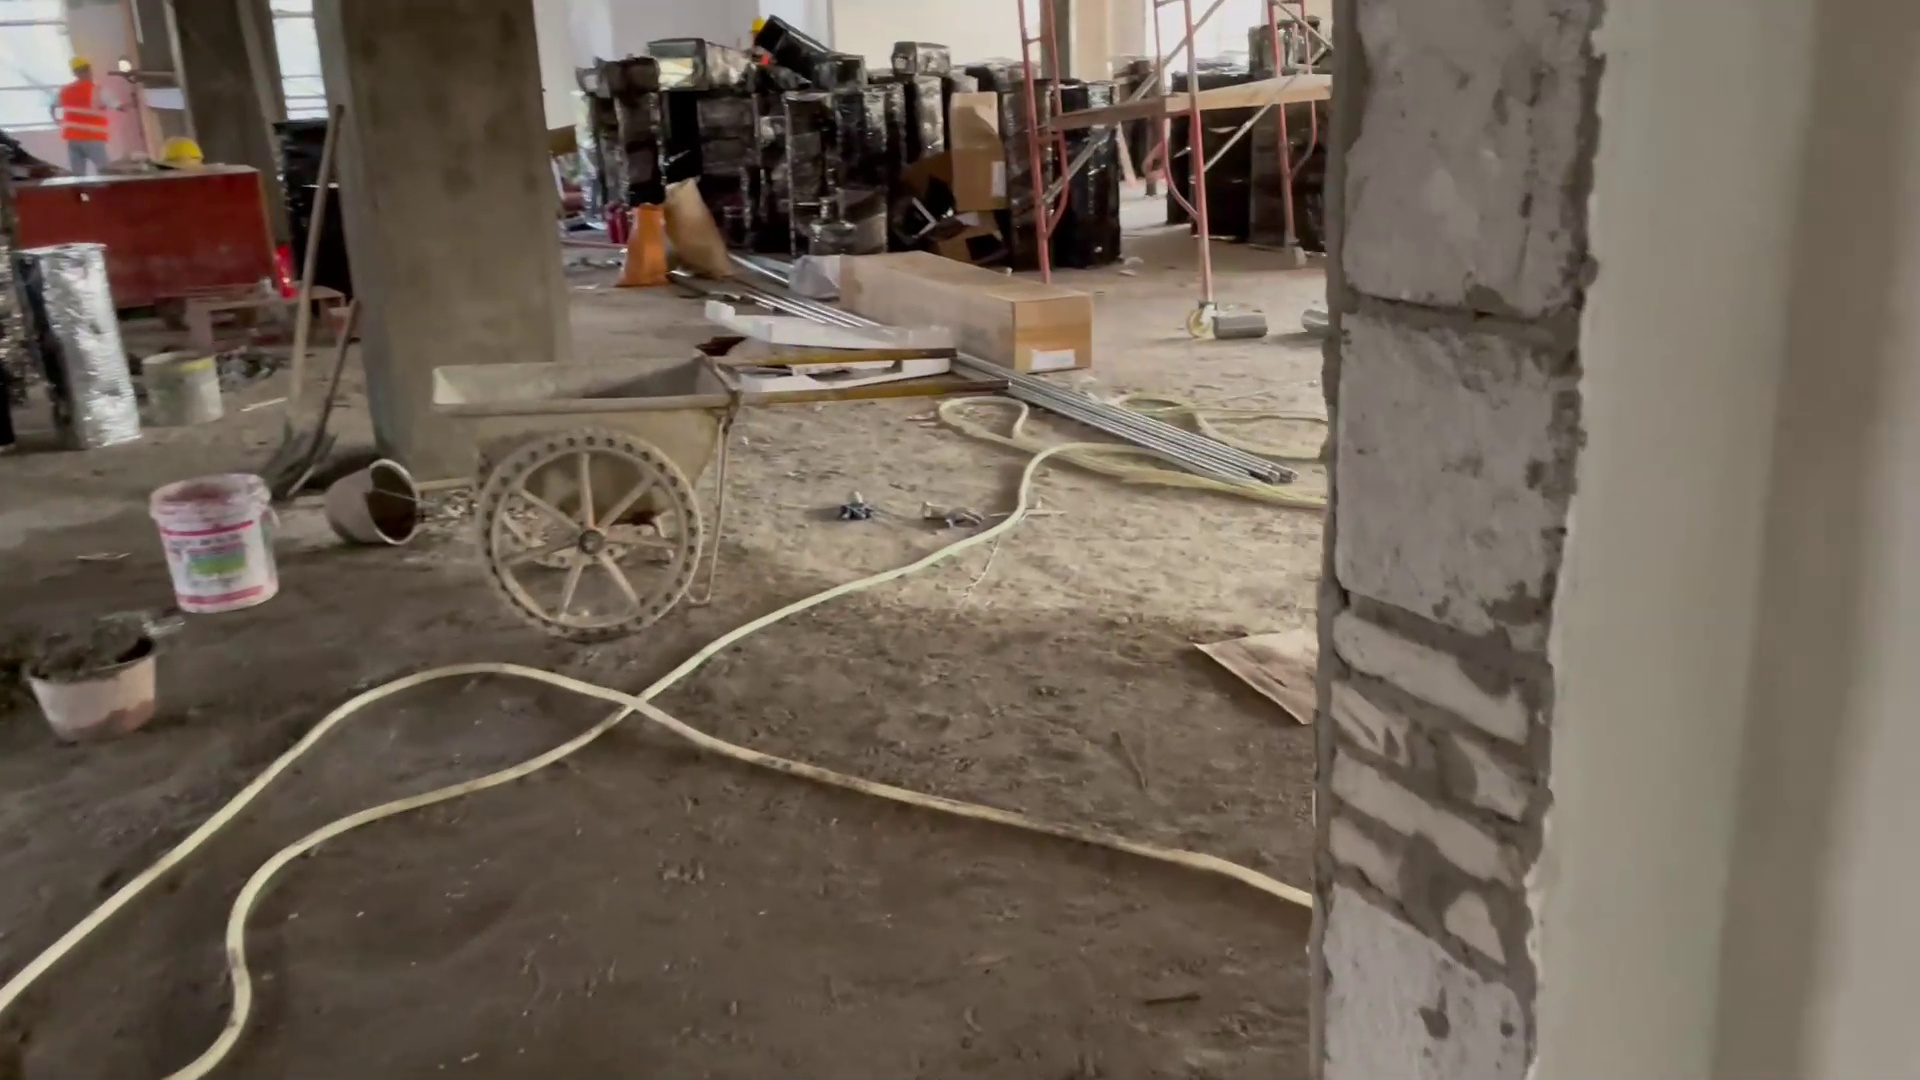handcart: (401, 333, 1036, 638)
helmet: (146, 135, 204, 172), (741, 16, 771, 36), (64, 52, 92, 70)
person: (49, 55, 136, 168)
vest: (55, 78, 108, 147)
